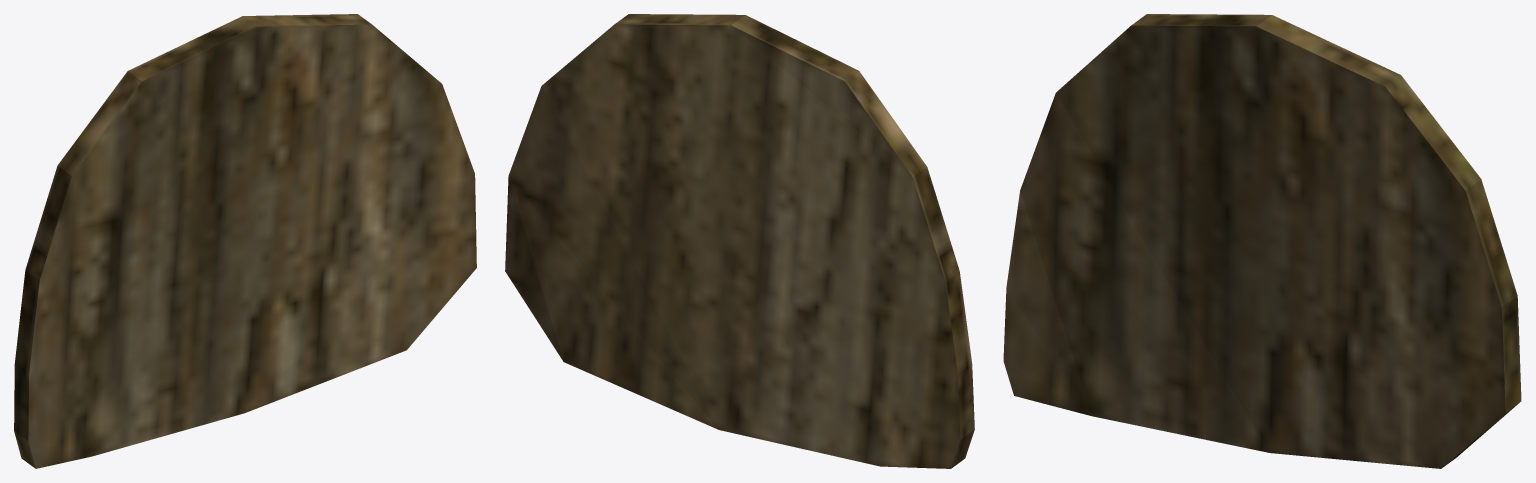
File: Casa_Puerta.obj
The picture shows the model from 3 angles, left to right: view 1: azimuth 30°, elevation 25°; view 2: azimuth 150°, elevation 25°; view 3: azimuth 330°, elevation 25°; orthographic projection. The views are drawn at different scales.
Parts seen in each view (by area): view 1: Puerta_Casa_Cube.002; view 2: Puerta_Casa_Cube.002; view 3: Puerta_Casa_Cube.002.
Boxes of the visible parts, left/top/right/bottom form: Puerta_Casa_Cube.002: left=14, top=14, right=476, bottom=468; Puerta_Casa_Cube.002: left=505, top=14, right=974, bottom=468; Puerta_Casa_Cube.002: left=1003, top=14, right=1521, bottom=468.
Bounding box in the file's own units: 17.42 × 14.63 × 1.79.
